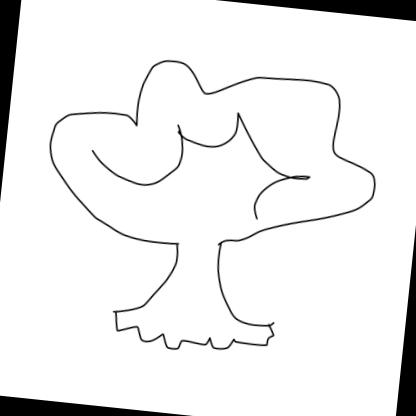crown_cloud: (39, 46, 386, 264)
root_only: (110, 301, 276, 361)
trunk_straight: (143, 251, 240, 314)
